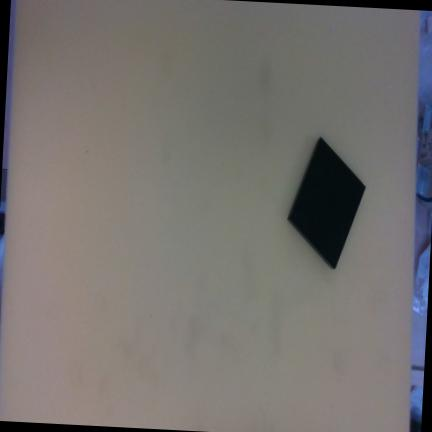tile: (277, 136, 378, 270)
